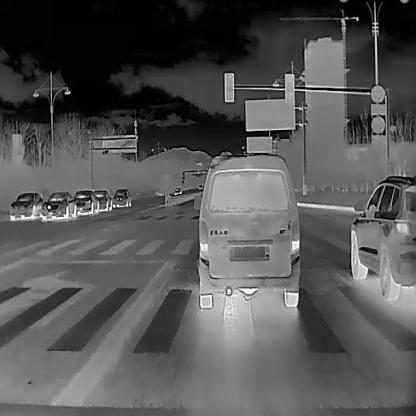car: (192, 149, 301, 308), (349, 172, 415, 304), (8, 189, 40, 220), (42, 191, 76, 219), (74, 188, 98, 213), (94, 188, 115, 209), (113, 188, 133, 204), (174, 186, 180, 194), (198, 182, 202, 189)
